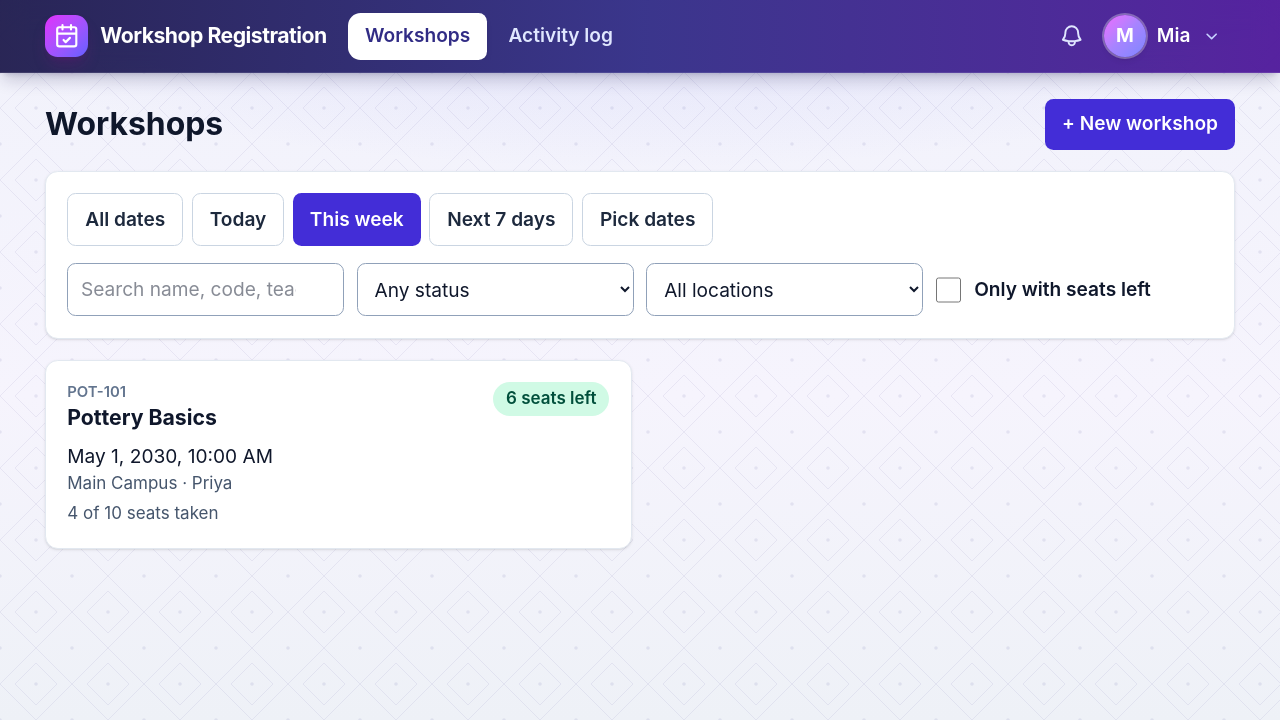
notification bell › shows an error message when activity cannot be loaded
This screenshot has width=1280, height=720.
Click the button named "Notifications": (1072, 36) left=1048, top=13, right=1095, bottom=60
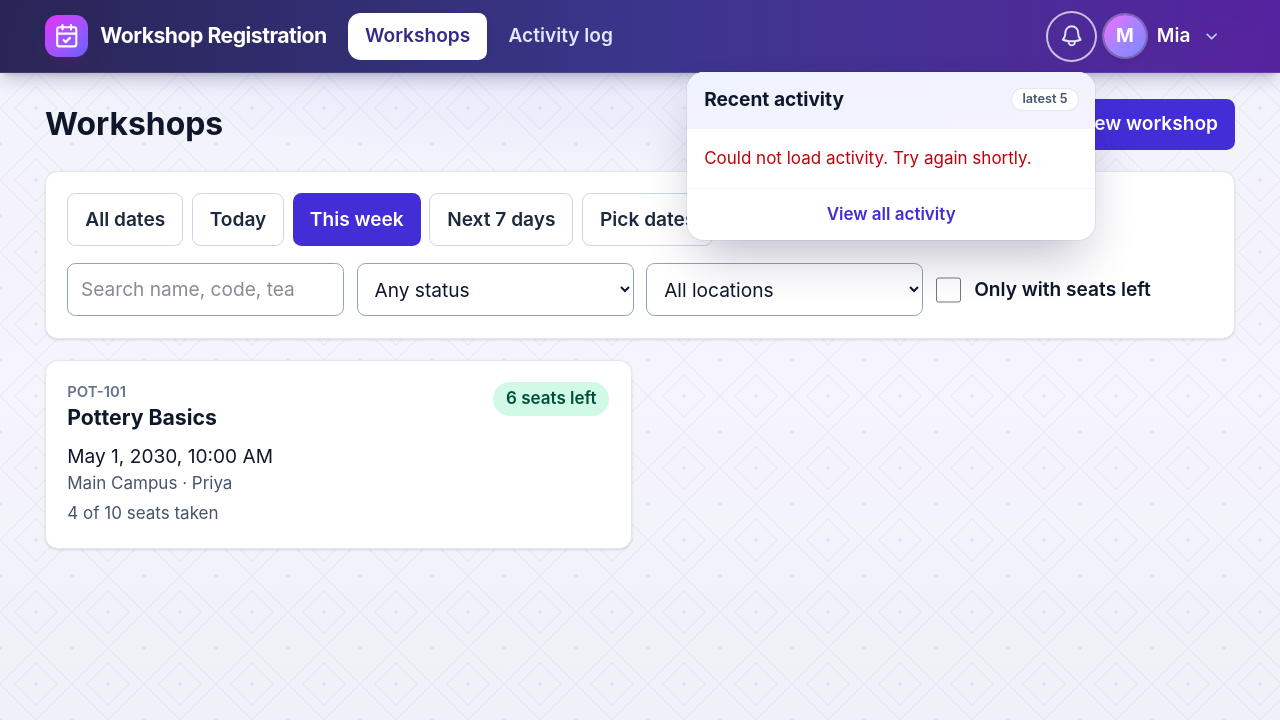
Expected: the text "Could not load activity. Try again shortly." is shown, left=704, top=148, right=1032, bottom=168
